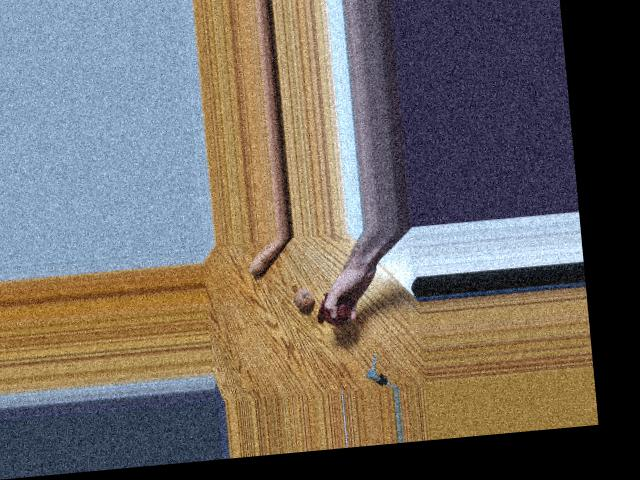onion: (294, 281, 321, 309)
